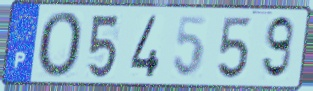4: (129, 14, 161, 80)
5: (171, 14, 210, 80), (85, 12, 123, 79), (217, 15, 254, 80)
9: (258, 15, 296, 83)
O: (36, 10, 86, 80)
